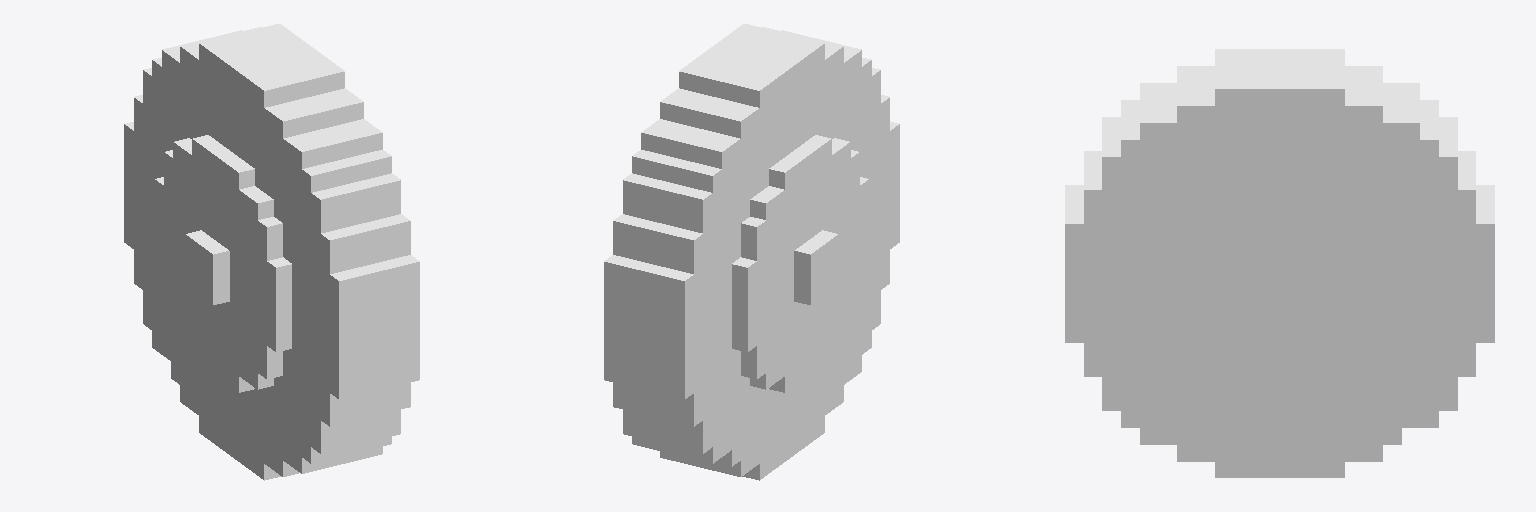
File: zil-130-2.obj
3 renders of one model, left to right at view 1: azimuth 30°, elevation 25°; view 2: azimuth 150°, elevation 25°; view 3: azimuth 270°, elevation 25°, orthographic.
Visible parts, largest first — view 1: object 1; view 2: object 1; view 3: object 1.
Boxes of the visible parts, <box> form: object 1: <box>124,24,419,480</box>; object 1: <box>604,24,899,480</box>; object 1: <box>1065,49,1494,477</box>.
Size of the model in its own units: 0.7 by 2.3 by 2.3.